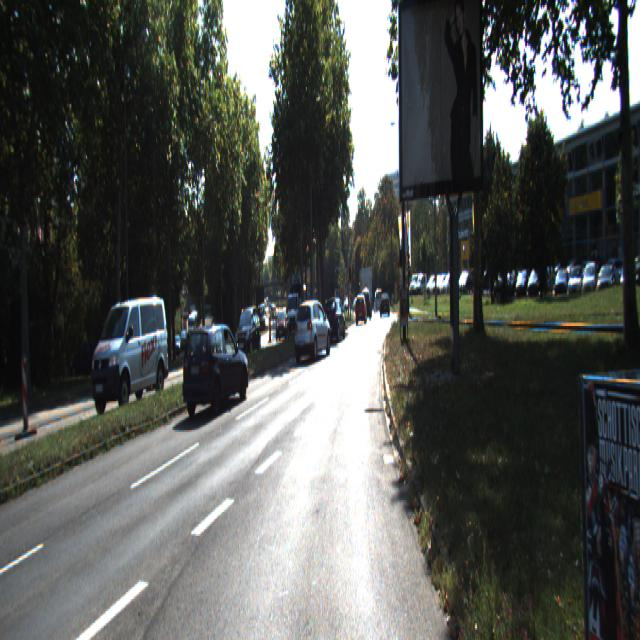Car: (90, 295, 171, 410), (181, 321, 251, 420), (294, 302, 331, 364), (235, 306, 262, 360), (323, 296, 346, 342), (356, 295, 367, 325)
